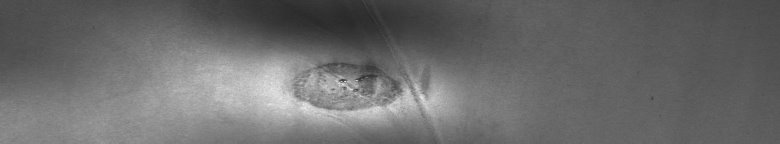ke: (282, 54, 438, 136)
